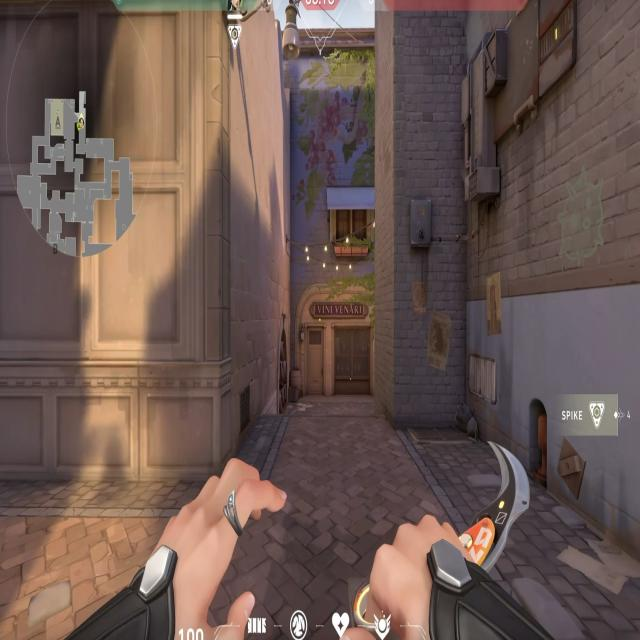Wine: (303, 288, 473, 420)
